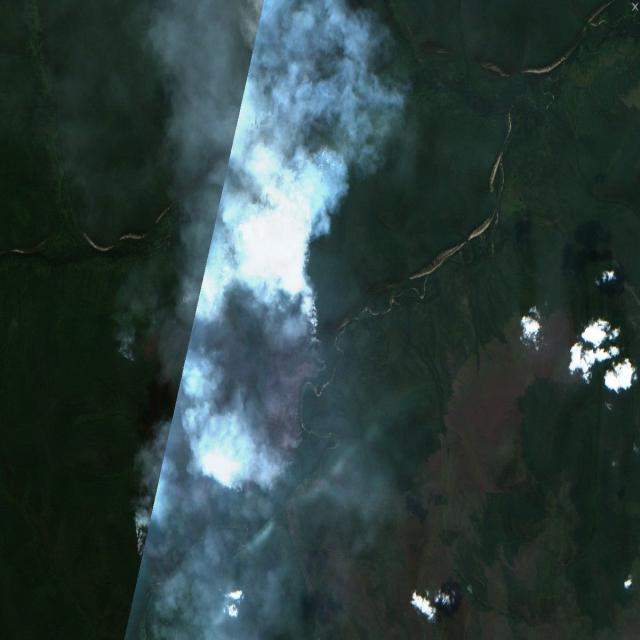fire: (123, 192, 328, 586)
